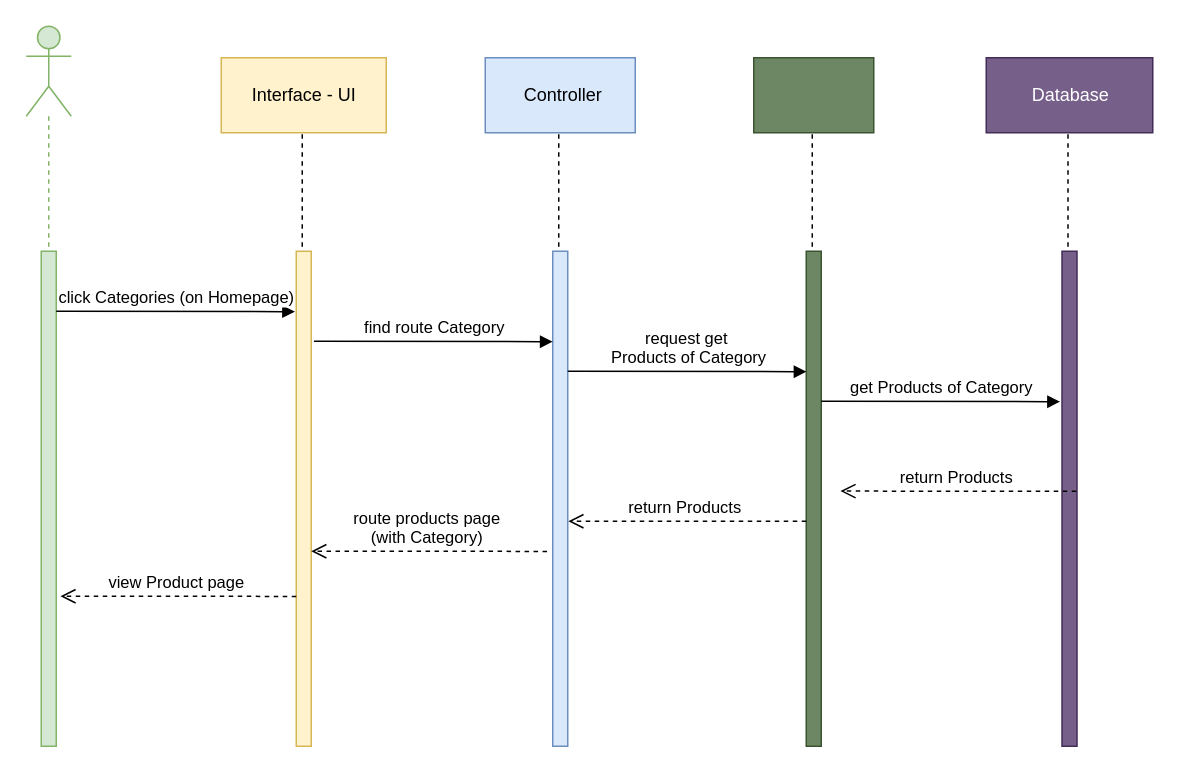
Image size: 1179x773. Some labels were removed from this diagram. The shapes that lost their labels are listed below. From the top down, each one's centre as x and y in pixels, then its label:
(48,70): User
(813,94): Server
